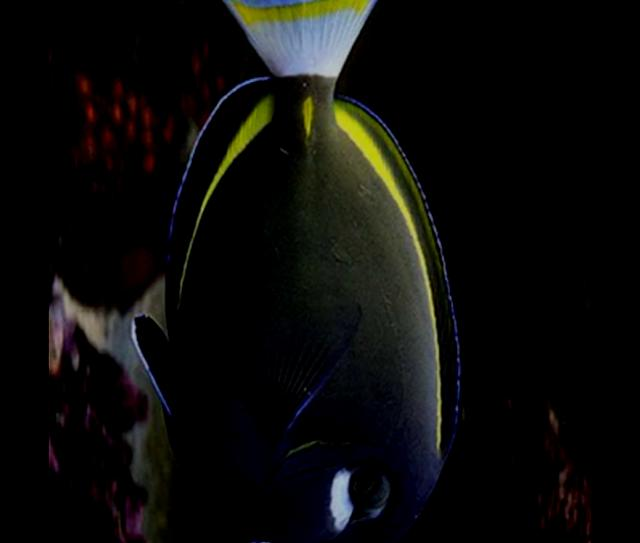Mulut: (230, 514, 307, 543)
Sirip Anal: (158, 67, 290, 324)
Sirip Dada: (215, 285, 384, 446)
Sirip Ekor: (185, 0, 410, 87)
Sirip Perut: (119, 306, 198, 434)
Sirip Punggung: (326, 70, 469, 459)
